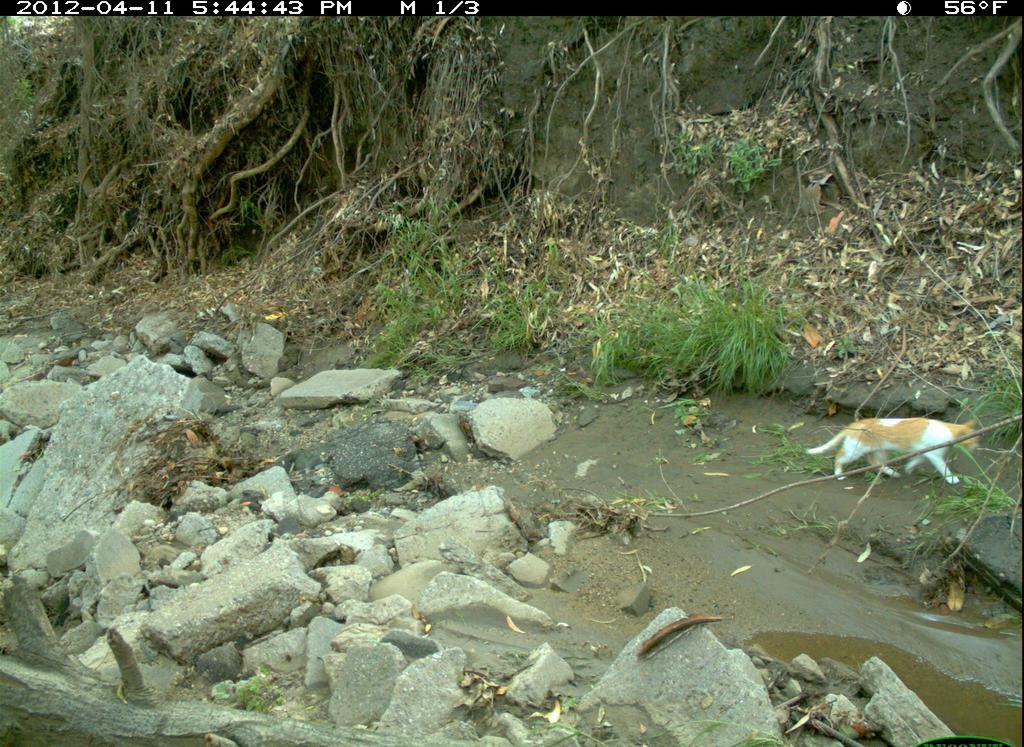cat: (798, 412, 990, 490)
